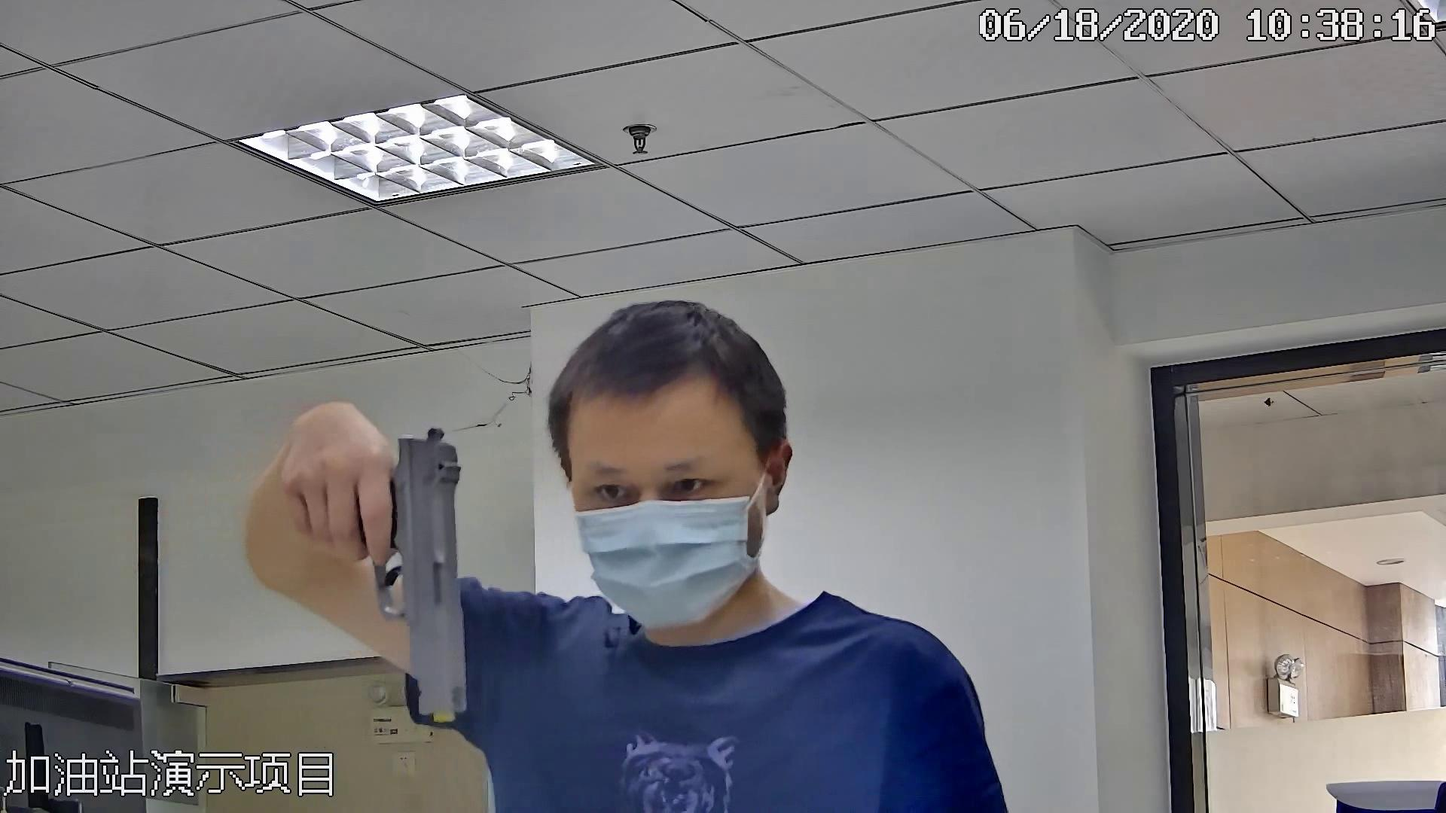gun: (305, 415, 479, 724)
